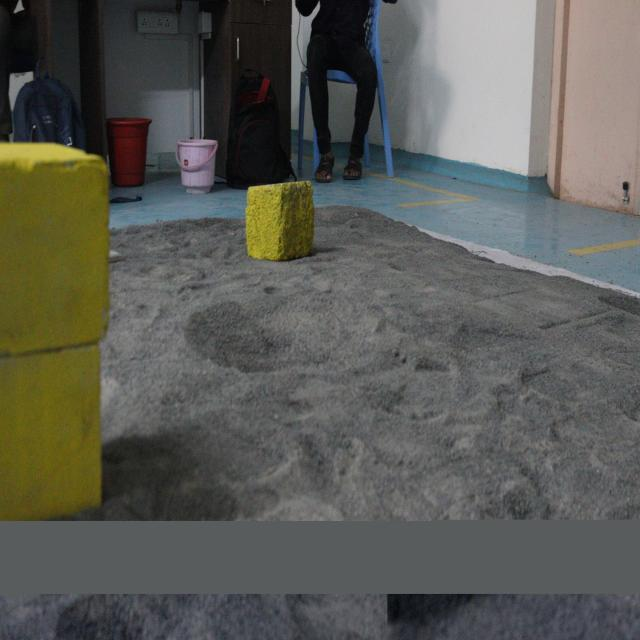box: (248, 184, 314, 268)
crater: (169, 272, 420, 388)
